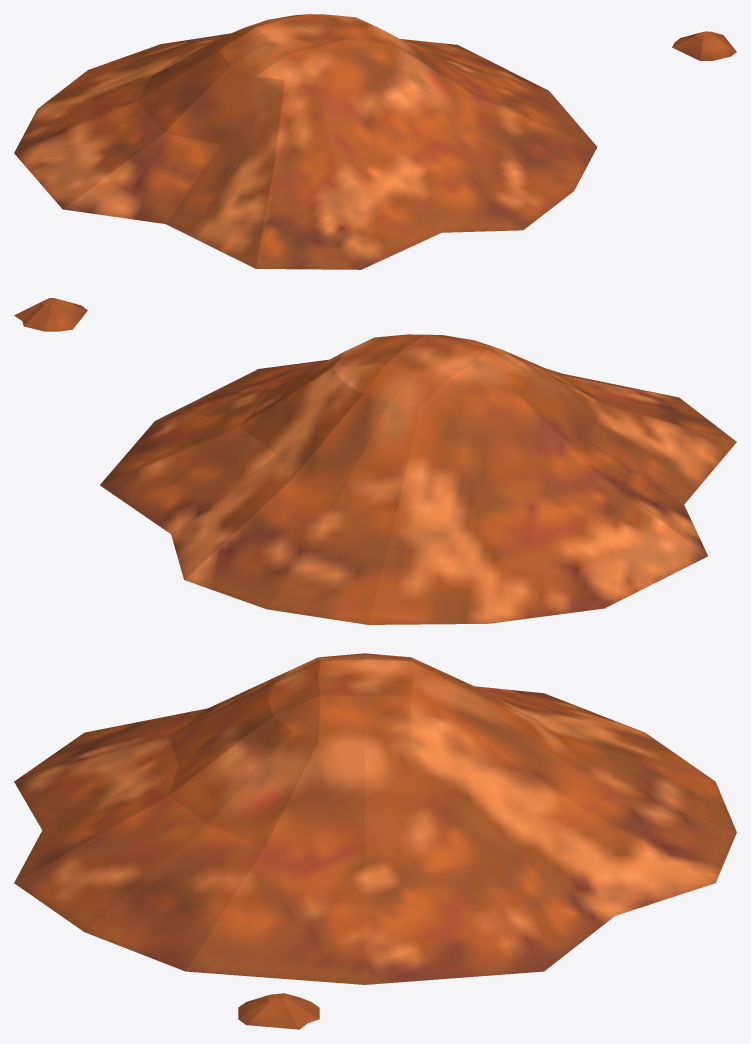
Rendered from terra.fbx.
3 views of the same model, one above another, from view 1: azimuth 30°, elevation 25°; view 2: azimuth 150°, elevation 25°; view 3: azimuth 270°, elevation 25° (orthographic). The views are drawn at different scales.
Parts seen in each view (by area): view 1: Cube; view 2: Cube; view 3: Cube.
Part boxes in pixels (x1,y1,x2,y2): Cube: [14, 14, 736, 269]; Cube: [14, 298, 736, 624]; Cube: [14, 653, 736, 1029].
Size of the model in its own units: 155 by 27.52 by 119.
1 material, 1 textured.
